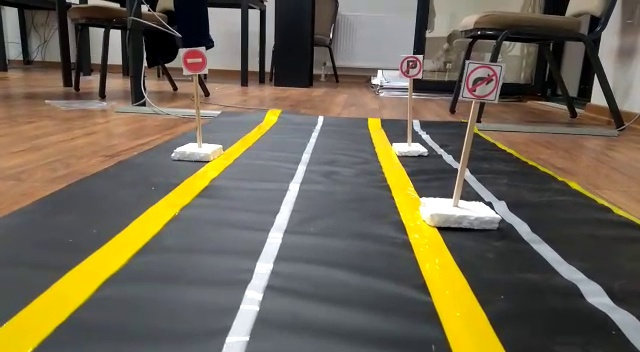girisi_olmayan_yol: (181, 47, 208, 73)
park_yapilmaz: (400, 56, 423, 77)
saga_donulmez: (463, 58, 500, 100)
